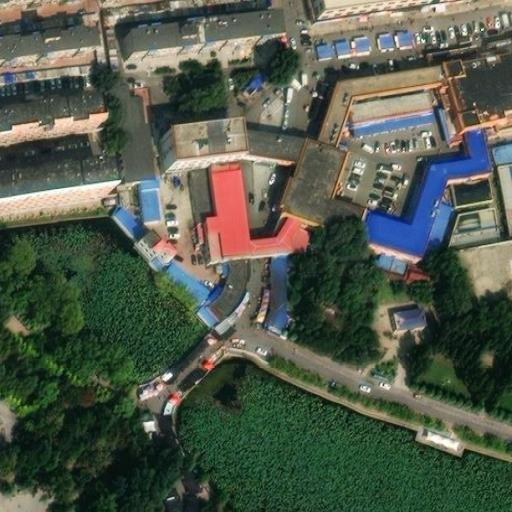building: (356, 120, 490, 251), (197, 151, 317, 255), (315, 56, 443, 141), (282, 131, 366, 229), (121, 14, 276, 52), (445, 39, 512, 125), (110, 75, 155, 176), (0, 160, 109, 201), (161, 327, 223, 387), (0, 98, 95, 136), (352, 85, 433, 127), (170, 116, 245, 157), (0, 28, 90, 60), (0, 54, 90, 84), (241, 116, 305, 157), (160, 249, 208, 296), (449, 200, 500, 240), (422, 197, 453, 256), (411, 420, 462, 454), (268, 247, 290, 323), (312, 33, 370, 60), (134, 223, 174, 262), (108, 198, 146, 236), (455, 165, 494, 195), (373, 238, 410, 268), (137, 172, 162, 214), (374, 27, 412, 49), (394, 297, 427, 321), (135, 413, 156, 435)
